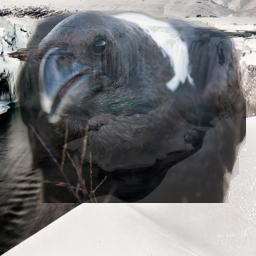Crow: (15, 9, 246, 203)
